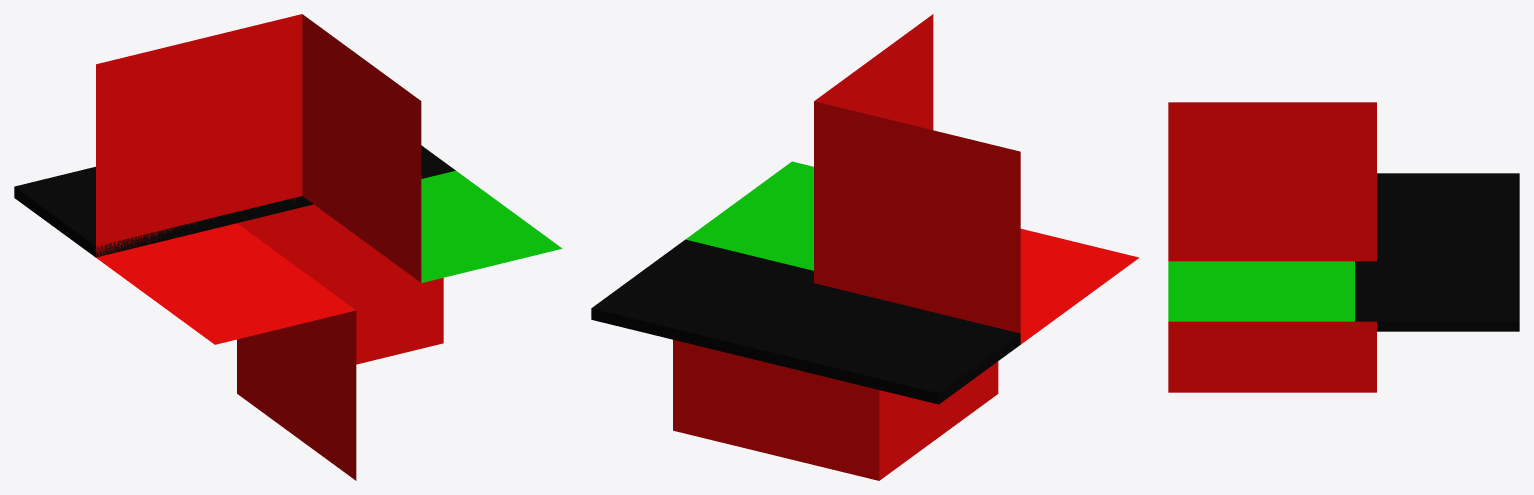
3 renders of one model, left to right at view 1: azimuth 30°, elevation 25°; view 2: azimuth 150°, elevation 25°; view 3: azimuth 270°, elevation 25°, orthographic. The views are drawn at different scales.
Visible parts, largest first — view 1: None_P_W_E_E_P_E_E_A_None; view 2: None_P_W_E_E_P_E_E_A_None; view 3: None_P_W_E_E_P_E_E_A_None.
Part boxes in pixels (bbox=[...]): None_P_W_E_E_P_E_E_A_None: bbox=[14, 14, 562, 480]; None_P_W_E_E_P_E_E_A_None: bbox=[591, 14, 1138, 480]; None_P_W_E_E_P_E_E_A_None: bbox=[1168, 102, 1519, 392].
Bounding box in the file's own units: 100 × 100 × 100.
